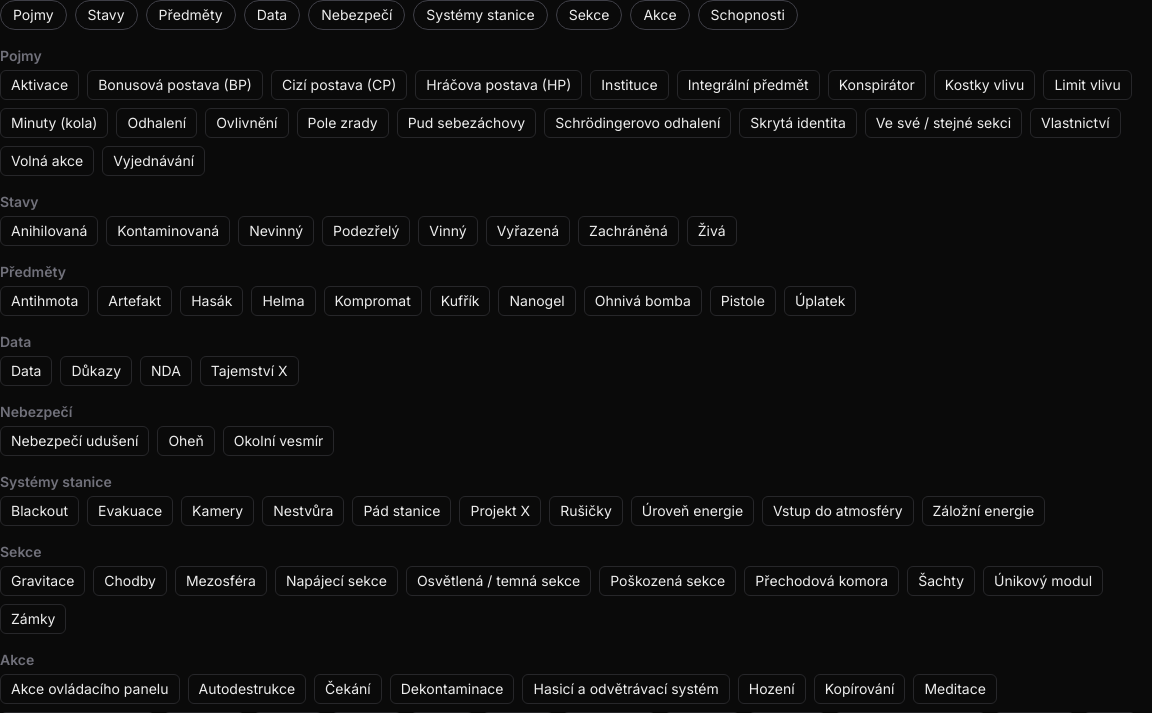
Scenario: Glossary + TermSheet › opens a term in the bottom-sheet
Click the button "Antihmota" at (45, 301), box [0, 286, 89, 316]
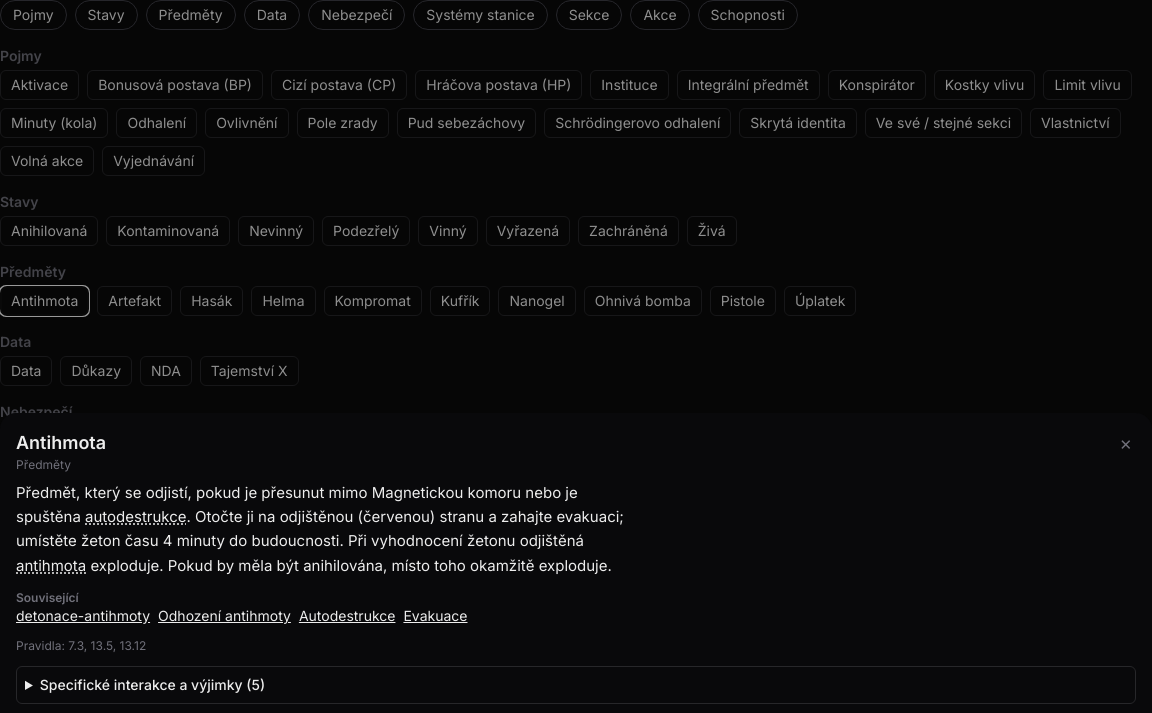
expect the text "odjistí" is shown: met, box [16, 482, 578, 526]
